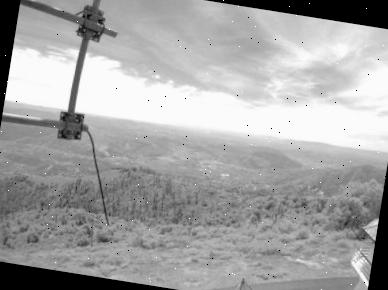smoke: (86, 125, 115, 158)
